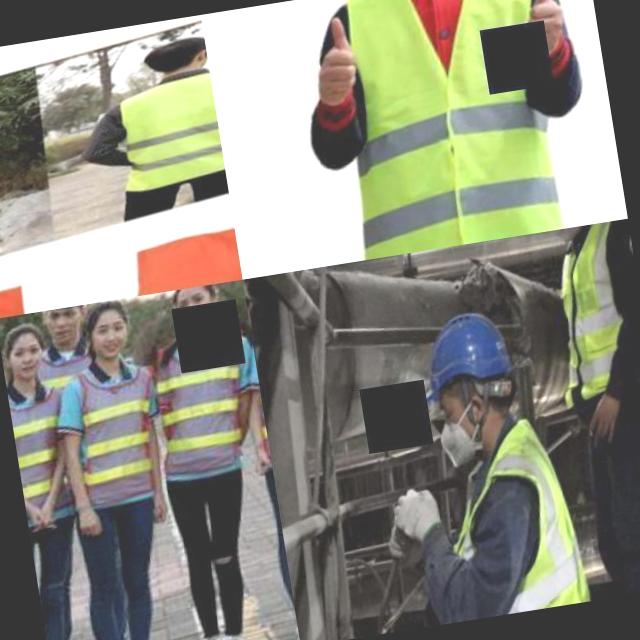vest: (312, 0, 601, 262), (418, 412, 608, 624), (524, 218, 640, 409), (54, 352, 184, 507), (104, 67, 227, 196), (144, 334, 262, 462), (6, 373, 91, 521)
